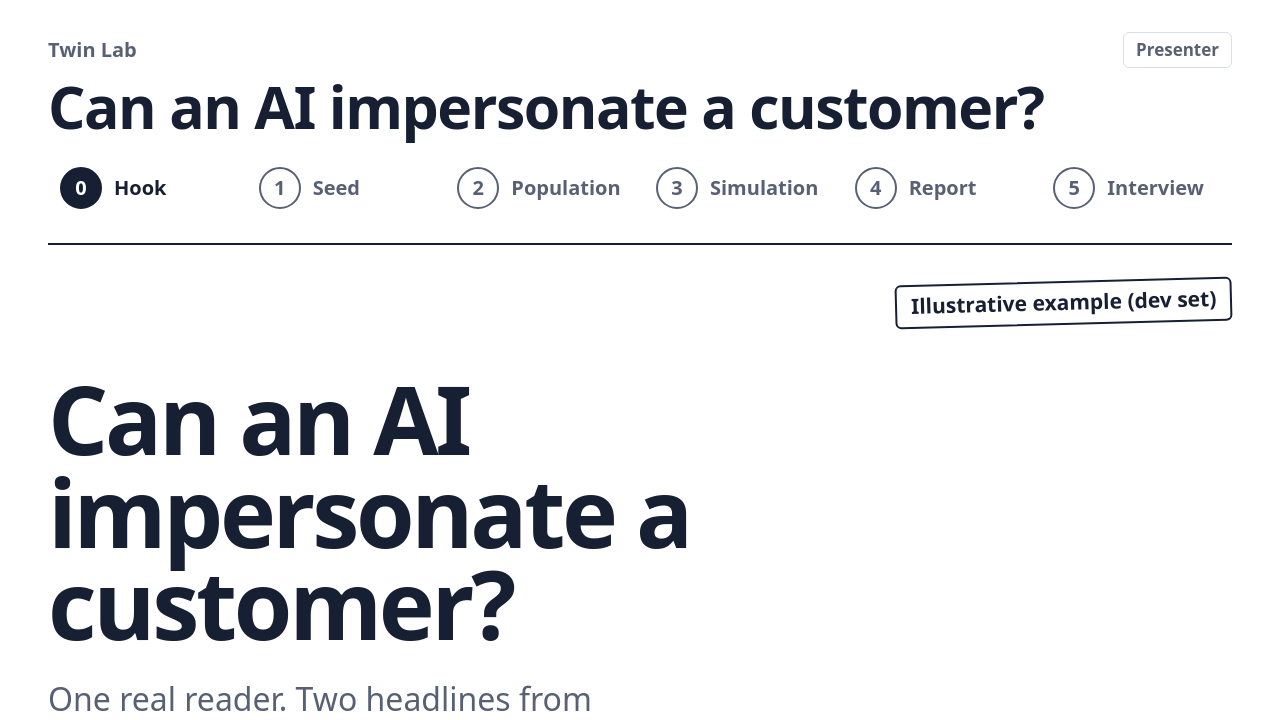
it: Simulation step in the app › notes beside the live-run control that live runs use the MOCK LLM on a mock server
This screenshot has width=1280, height=720.
Click the button "3 Simulation": (739,188) [644,157,835,219]
(page scrolled)
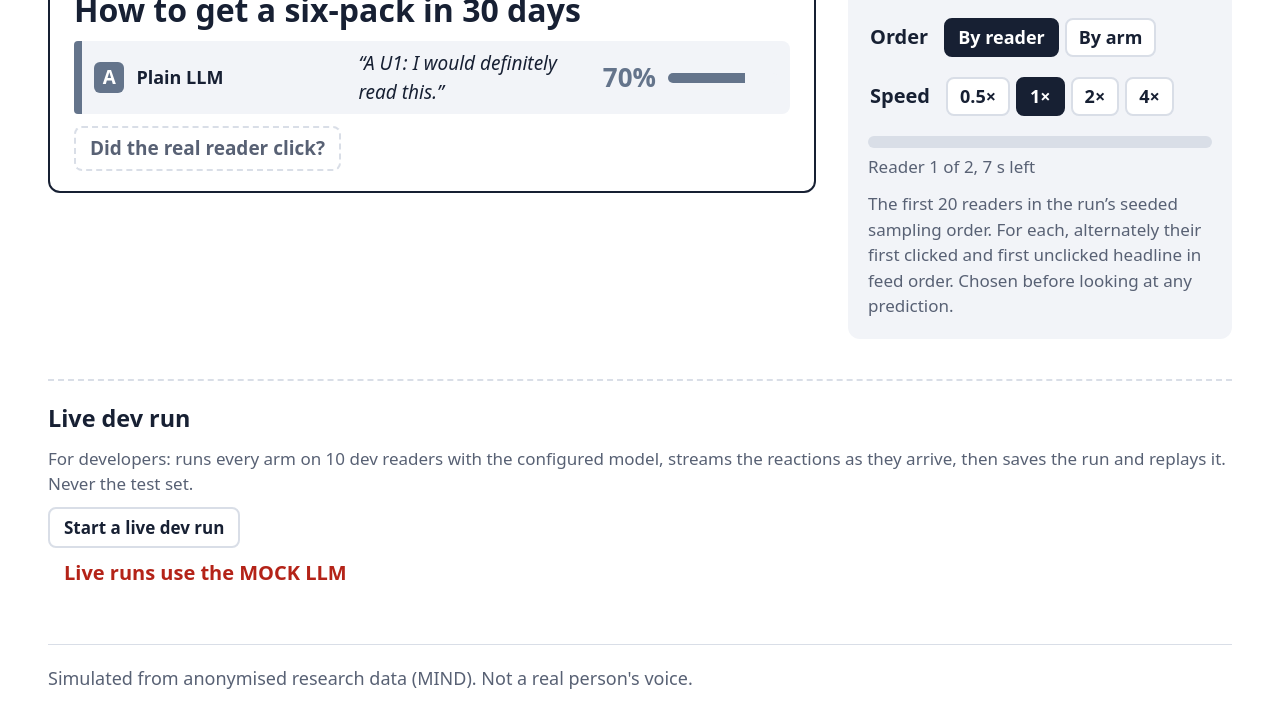
Expected: the text "Live runs use the MOCK LLM" is shown, [64,558,347,588]
